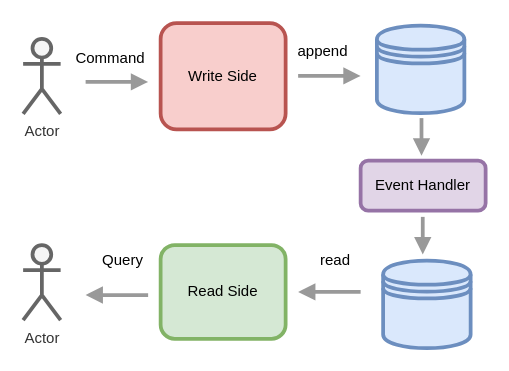
The diagram is 509 pixels wide and 371 high, and some of its shapes have lost their labels. Here are the shapes that lost their labels. From the top down, the centre of each, then its label:
At point (420, 68): "Event Store".
At point (426, 303): "Projections".
